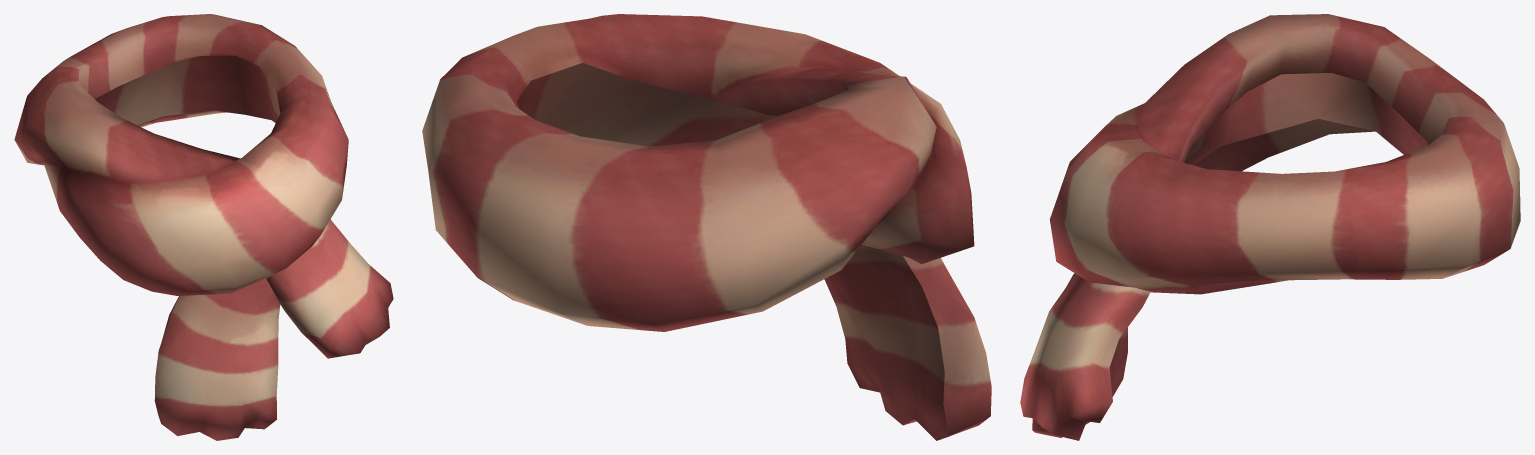
The model's file is Homeworld_Exterior_Common_Prop_Thing_SnowmanScarf_03_Vo.fbx.
The picture shows the model from 3 angles, left to right: view 1: azimuth 30°, elevation 25°; view 2: azimuth 150°, elevation 25°; view 3: azimuth 270°, elevation 25°; orthographic projection. The views are drawn at different scales.
Visible parts, largest first — view 1: Homeworld_Exterior_Common_Prop_Thing_SnowmanScarf_03_Vo; view 2: Homeworld_Exterior_Common_Prop_Thing_SnowmanScarf_03_Vo; view 3: Homeworld_Exterior_Common_Prop_Thing_SnowmanScarf_03_Vo.
Boxes of the visible parts, box(x1,y1,x2,y2) form: Homeworld_Exterior_Common_Prop_Thing_SnowmanScarf_03_Vo: box(14, 14, 393, 440); Homeworld_Exterior_Common_Prop_Thing_SnowmanScarf_03_Vo: box(422, 14, 991, 440); Homeworld_Exterior_Common_Prop_Thing_SnowmanScarf_03_Vo: box(1020, 14, 1520, 440).
Bounding box in the file's own units: 0.7489 × 0.7312 × 0.8959.
1 material, 1 textured.
